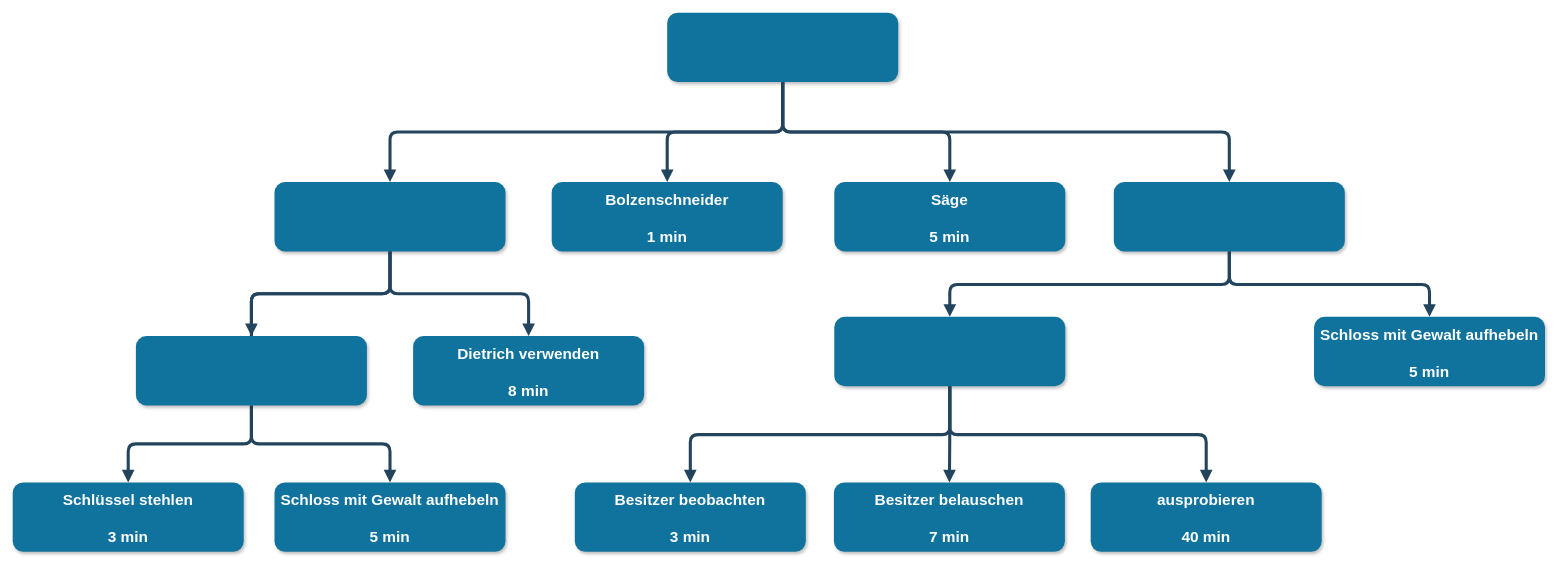
Image size: 1558x564. Some labels were removed from this diagram. The centre of each missing label's shape, as x and y in pixels:
Code lösen 3 min: point (950, 352)
Fahrradbesitzer verfolgen 60 min: point (251, 371)
Fahrradschloss knacken 5 min: point (783, 48)
Schlüsselschloss 10 min: point (390, 217)
Zahlenschloss 15 min: point (1229, 217)
